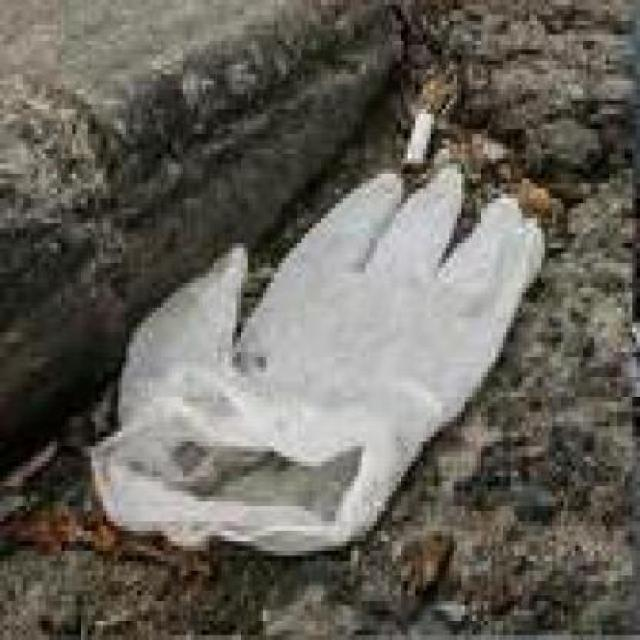glove_hand: (98, 161, 547, 567)
